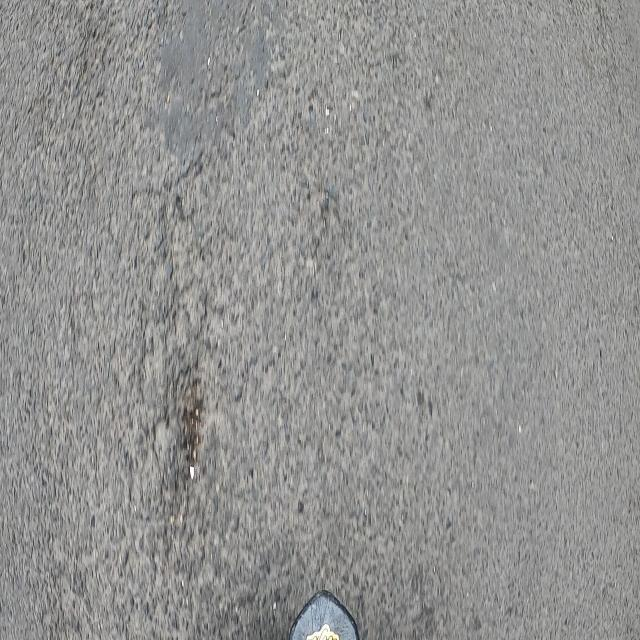Lubang: (182, 378, 202, 467)
